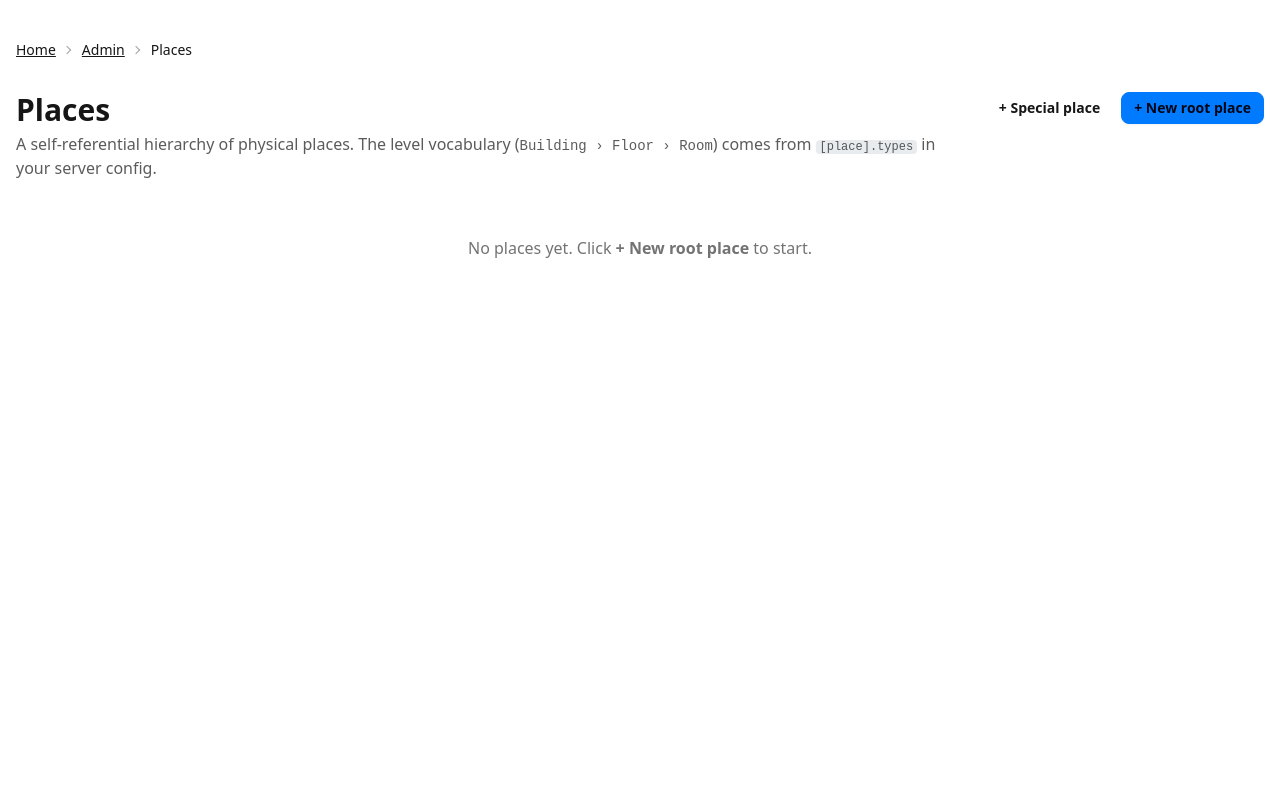
Test case: the type vocabulary the form offers › offers no dropdown at all for a special place, just free text
This screenshot has width=1280, height=800.
Step 1. Click the button "+ Special place" → (1050, 108), box [986,92,1113,124]
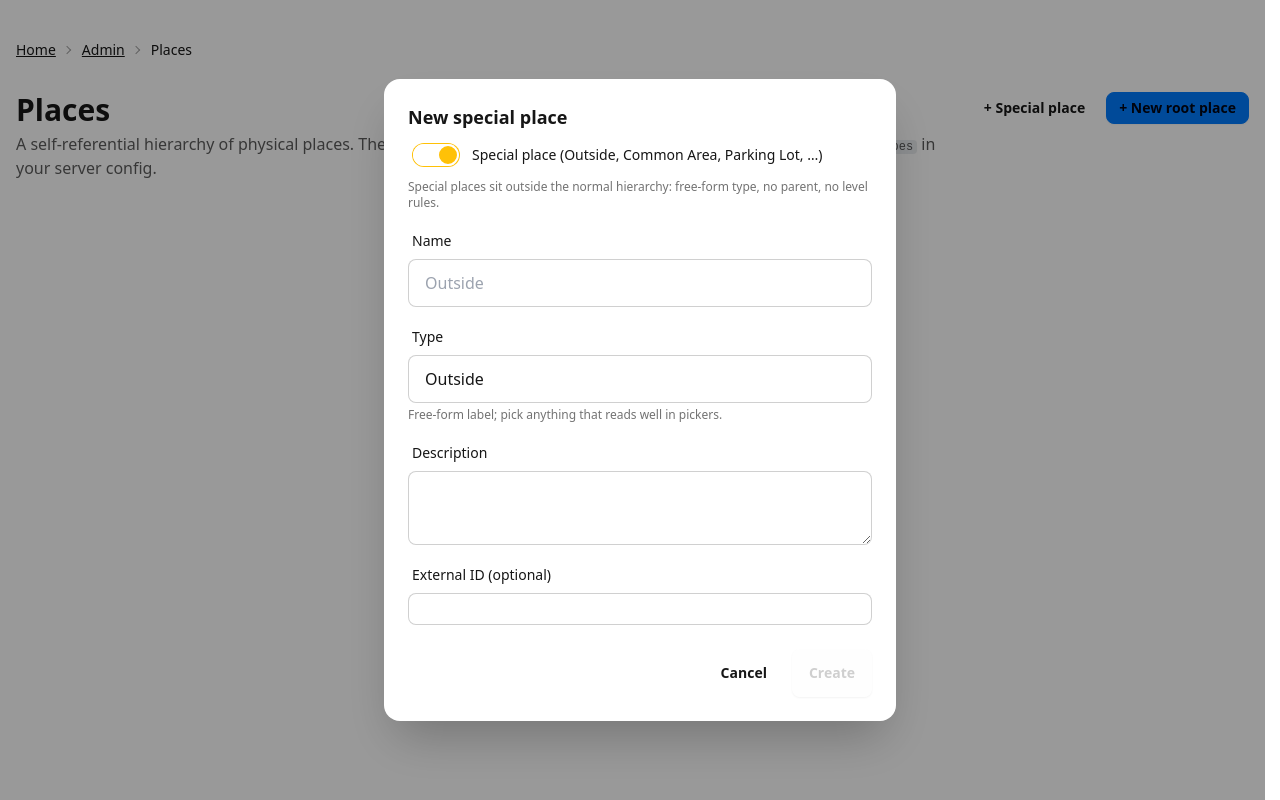
Check: the element with class "modal-box" shows "Free-form label", box [408,406,722,423]
